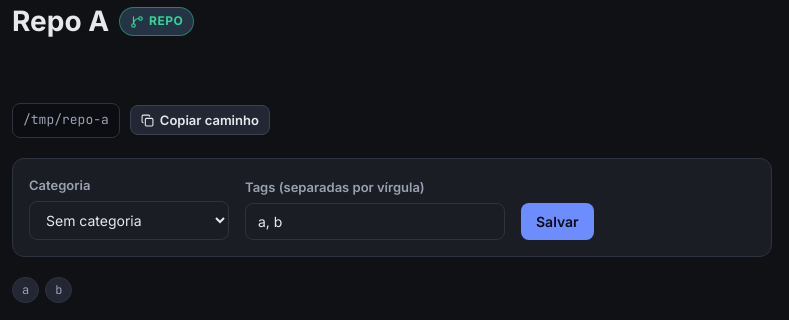
Test case: ItemDetailPage › edits category and tags and saves them
Select "dev-tools" in the dropdown labelled "Categoria": [129, 220] box [29,201,229,240]
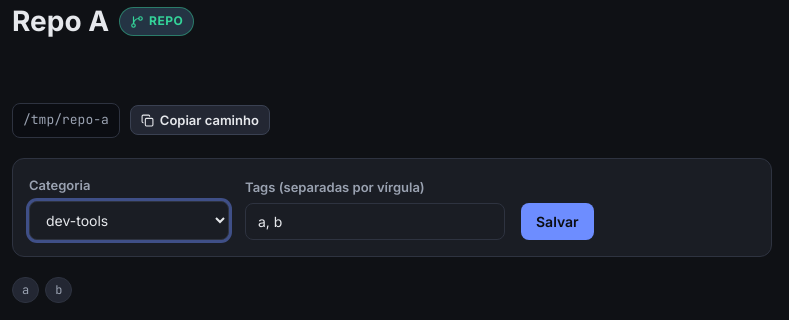
Replace the text in the field labelled "Tags (separadas por vírgula)" with "novo": [375, 221] box [245,203,505,240]
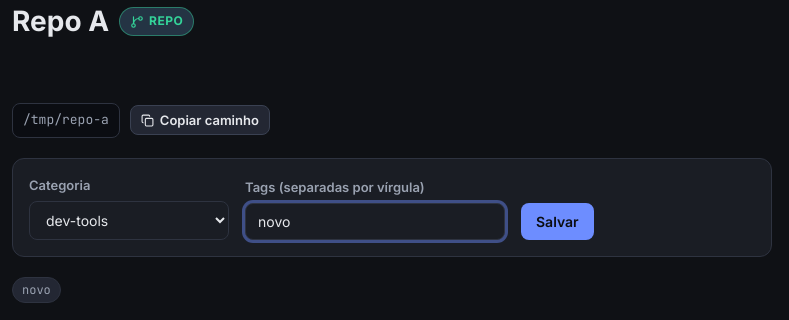
Click the button "Salvar": [557, 221] box [521,203,594,240]
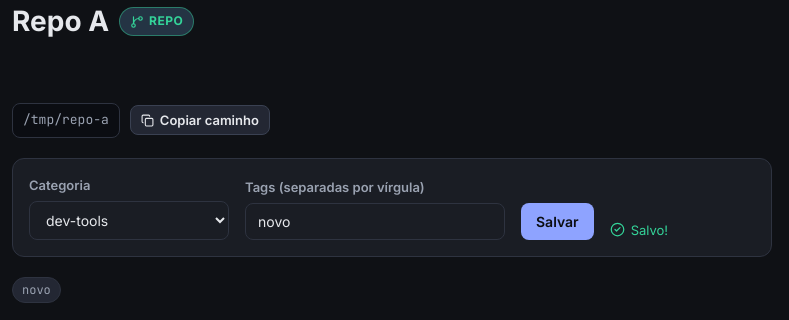
Check: the text "Salvo!" is shown, box [610,220,668,240]
